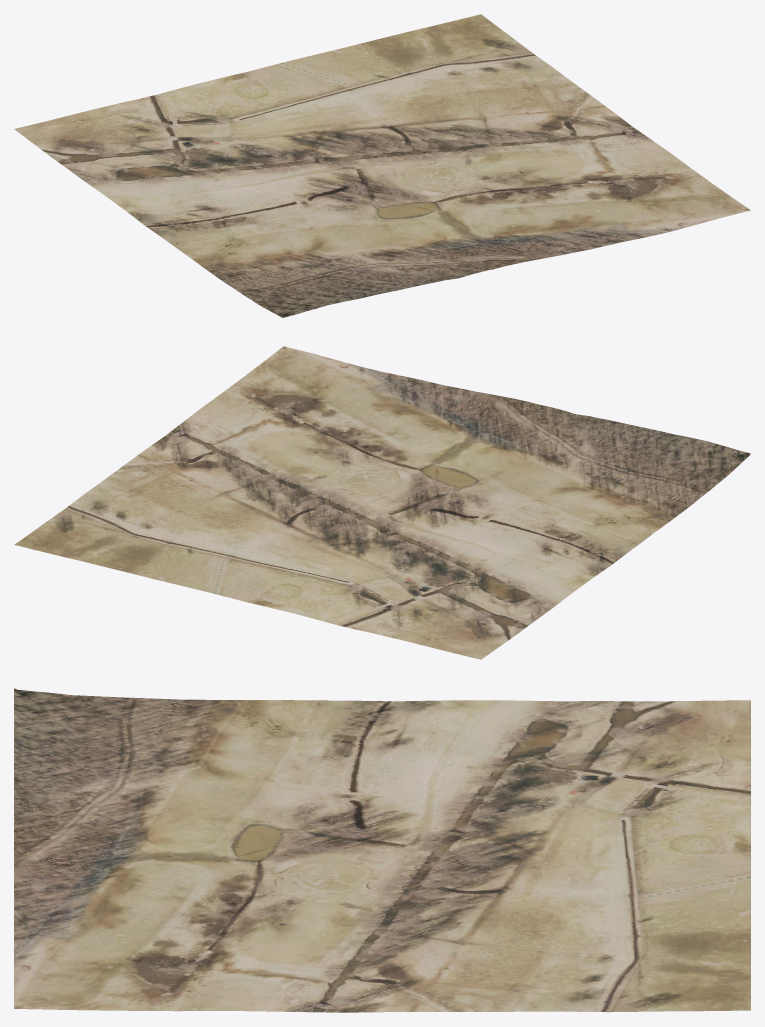
The model's file is CM_Terrain_24491482_6818975.fbx.
3 renders of one model, top to bottom at view 1: azimuth 30°, elevation 25°; view 2: azimuth 150°, elevation 25°; view 3: azimuth 270°, elevation 25°, orthographic. The views are drawn at different scales.
Visible parts, largest first — view 1: CM_Terrain_24491482_6818975_LOD0; view 2: CM_Terrain_24491482_6818975_LOD0; view 3: CM_Terrain_24491482_6818975_LOD0.
Part boxes in pixels (x1,y1,x2,y2): CM_Terrain_24491482_6818975_LOD0: (14, 14, 750, 317); CM_Terrain_24491482_6818975_LOD0: (14, 346, 750, 659); CM_Terrain_24491482_6818975_LOD0: (14, 688, 750, 1012).
Size of what is drawn, in the model's own units: 205 by 4.96 by 205.
